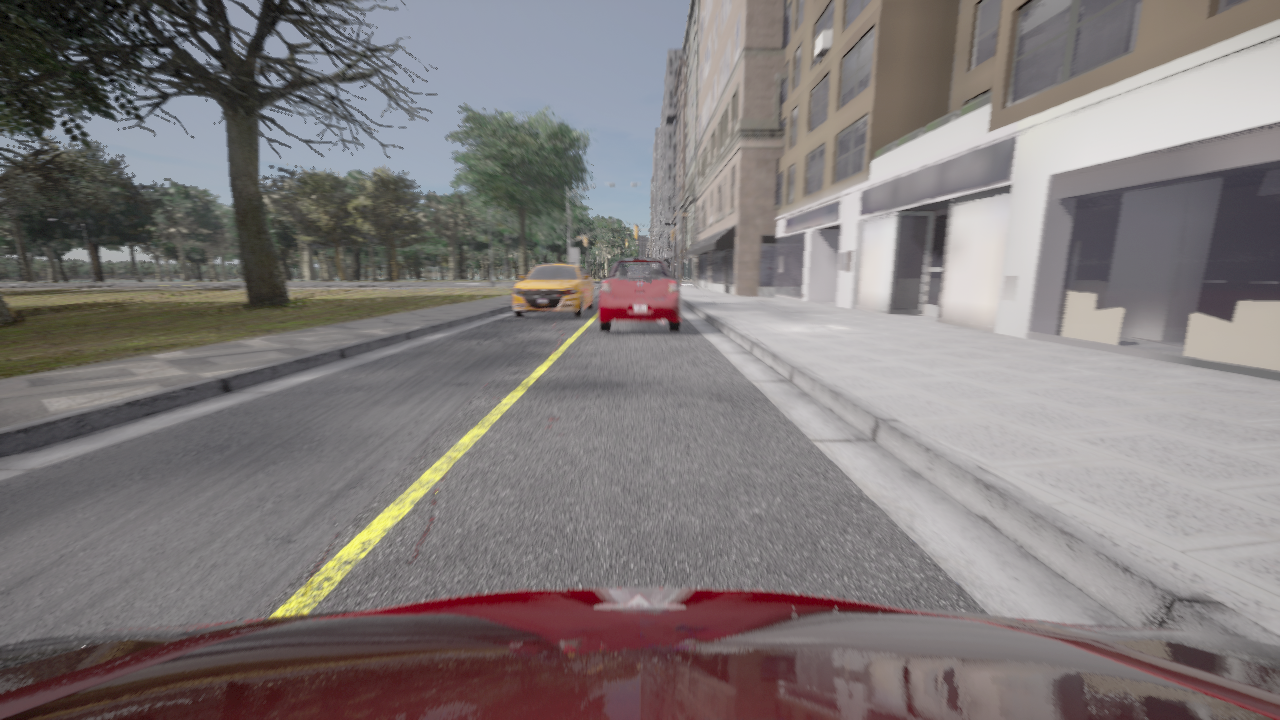cyclist: (0, 588, 1279, 719), (599, 259, 680, 332), (513, 263, 594, 316)
